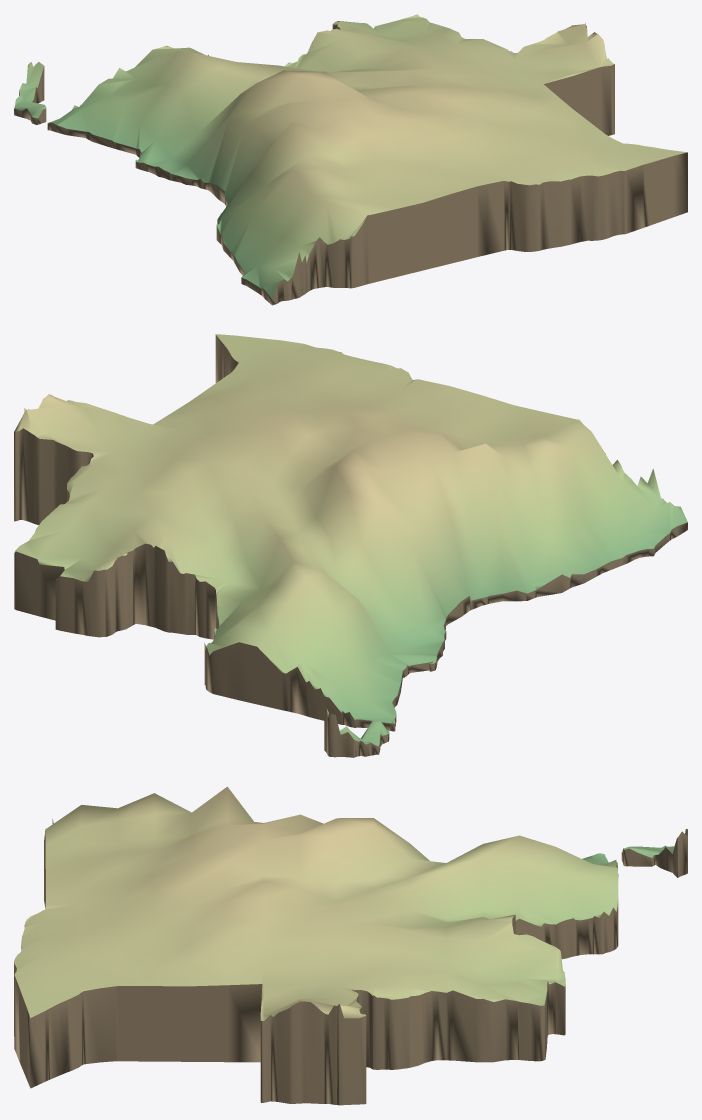
Rendered from AGO.glb.
3 renders of one model, top to bottom at view 1: azimuth 30°, elevation 25°; view 2: azimuth 150°, elevation 25°; view 3: azimuth 270°, elevation 25°, orthographic. The views are drawn at different scales.
Visible parts, largest first — view 1: AGO; view 2: AGO; view 3: AGO.
Boxes of the visible parts, x1,y1,x2,y2 form: AGO: (14, 14, 687, 305); AGO: (14, 334, 687, 757); AGO: (14, 786, 687, 1105).
Bounding box in the file's own units: 1.3 × 0.2989 × 1.48.
